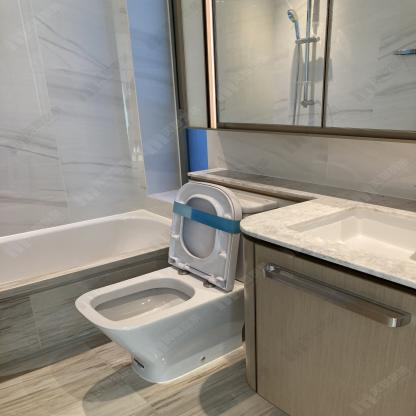Bathtub: (0, 209, 173, 380)
Toilet: (68, 183, 272, 380)
Toilet Sink: (290, 207, 416, 259)
